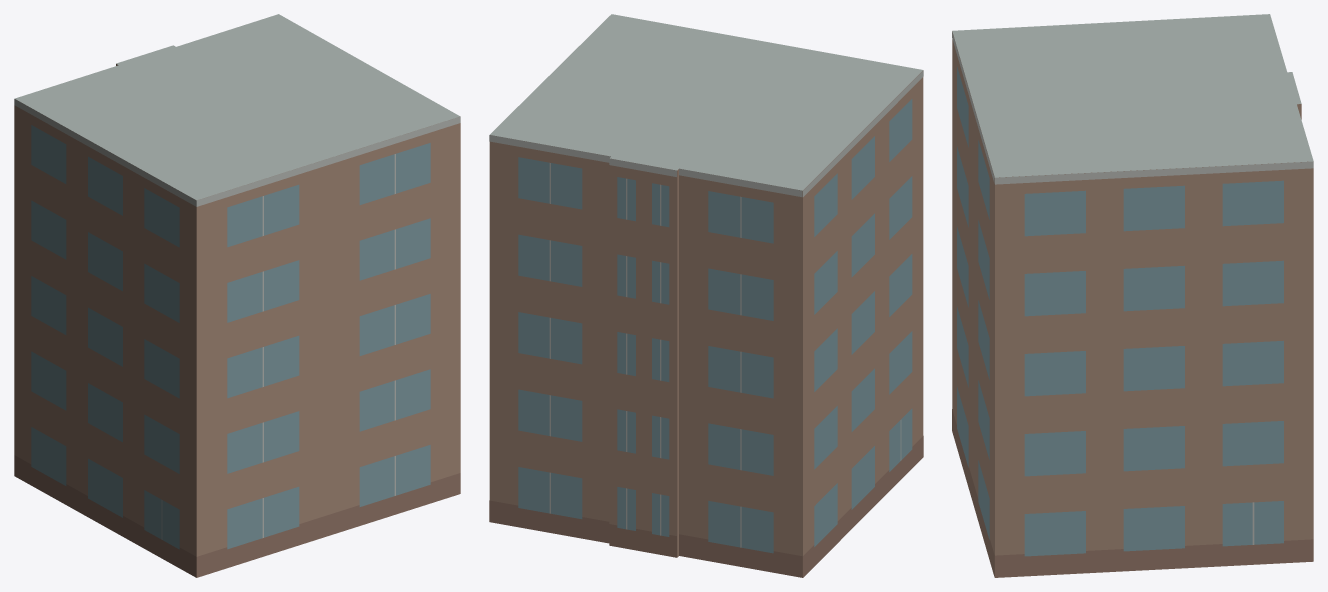
File: survey-upis-32733658.glb
3 views of the same model, side by side, from view 1: azimuth 30°, elevation 25°; view 2: azimuth 150°, elevation 25°; view 3: azimuth 270°, elevation 25° (orthographic). The views are drawn at different scales.
Visible parts, largest first — view 1: survey-upis-32733658.tmp; view 2: survey-upis-32733658.tmp; view 3: survey-upis-32733658.tmp.
Part boxes in pixels (x1,y1,x2,y2): survey-upis-32733658.tmp: [14, 14, 460, 577]; survey-upis-32733658.tmp: [489, 14, 923, 577]; survey-upis-32733658.tmp: [952, 14, 1313, 577].
Bounding box in the file's own units: 12.37 × 14.1 × 11.56.
